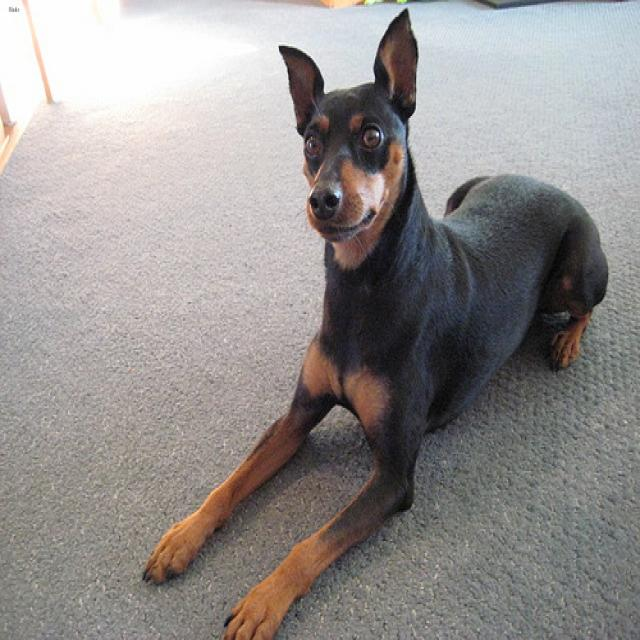dog-miniature_pinscher: (133, 2, 617, 637)
